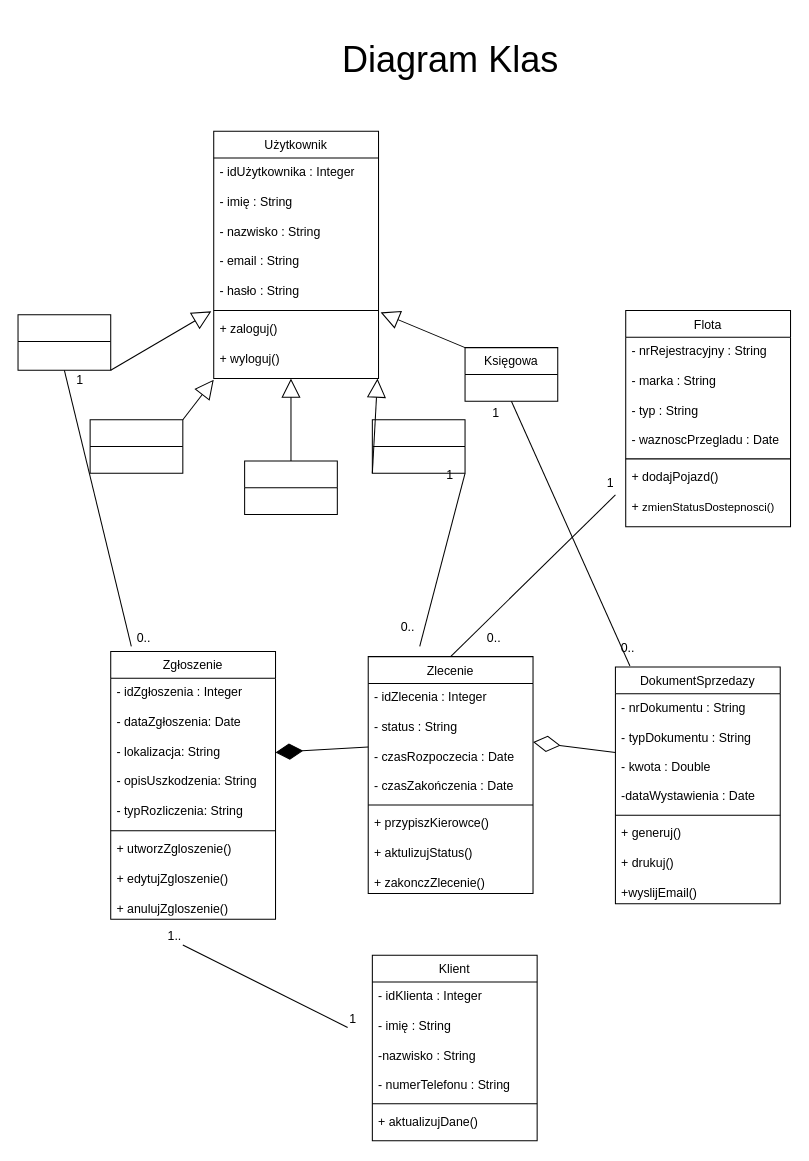
The diagram is 809 pixels wide and 1161 high, and some of its shapes have lost their labels. The centre of each missing label's shape, as x and y in pixels:
"Doradca" belongs at (136,446).
"Dyspozytor" belongs at (64,342).
"Kierowca" belongs at (418,446).
"Menedżer" belongs at (290,487).
